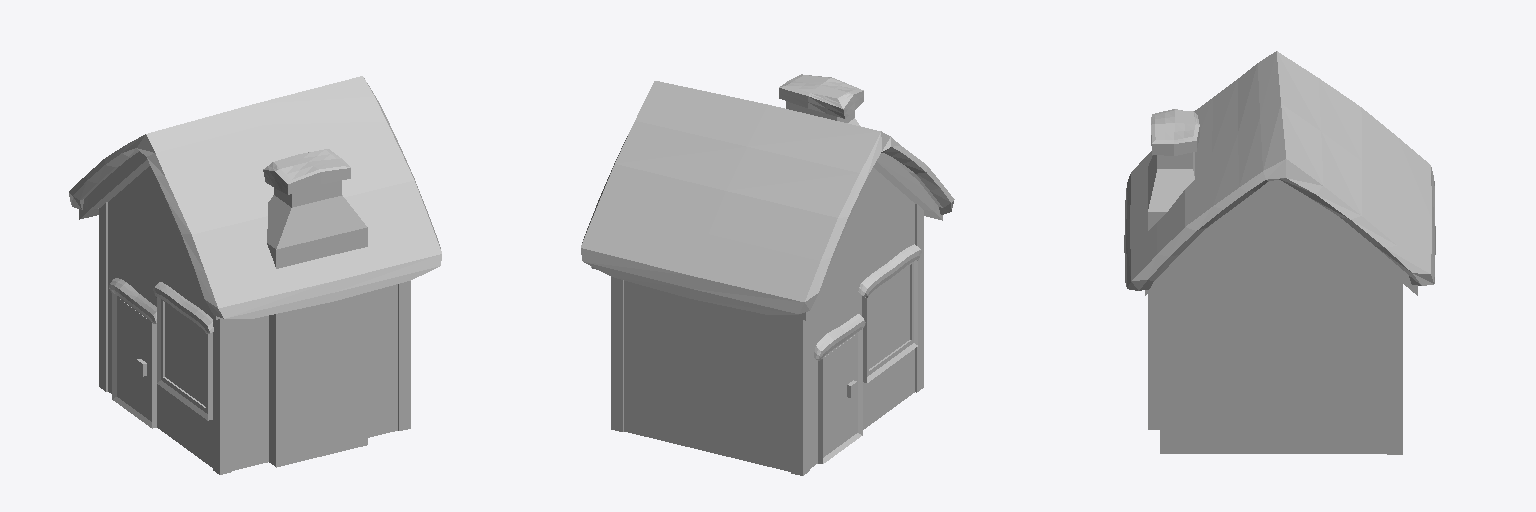
The model's file is house1_snow.obj.
The picture shows the model from 3 angles: view 1: azimuth 30°, elevation 25°; view 2: azimuth 150°, elevation 25°; view 3: azimuth 270°, elevation 25°; orthographic projection.
Parts seen in each view (by area): view 1: Cube.001; view 2: Cube.001; view 3: Cube.001.
Boxes of the visible parts, x1,y1,x2,y2 form: Cube.001: [69, 76, 441, 474]; Cube.001: [581, 74, 954, 475]; Cube.001: [1124, 51, 1435, 454].
Bounding box in the file's own units: 5.14 × 6.37 × 5.91.